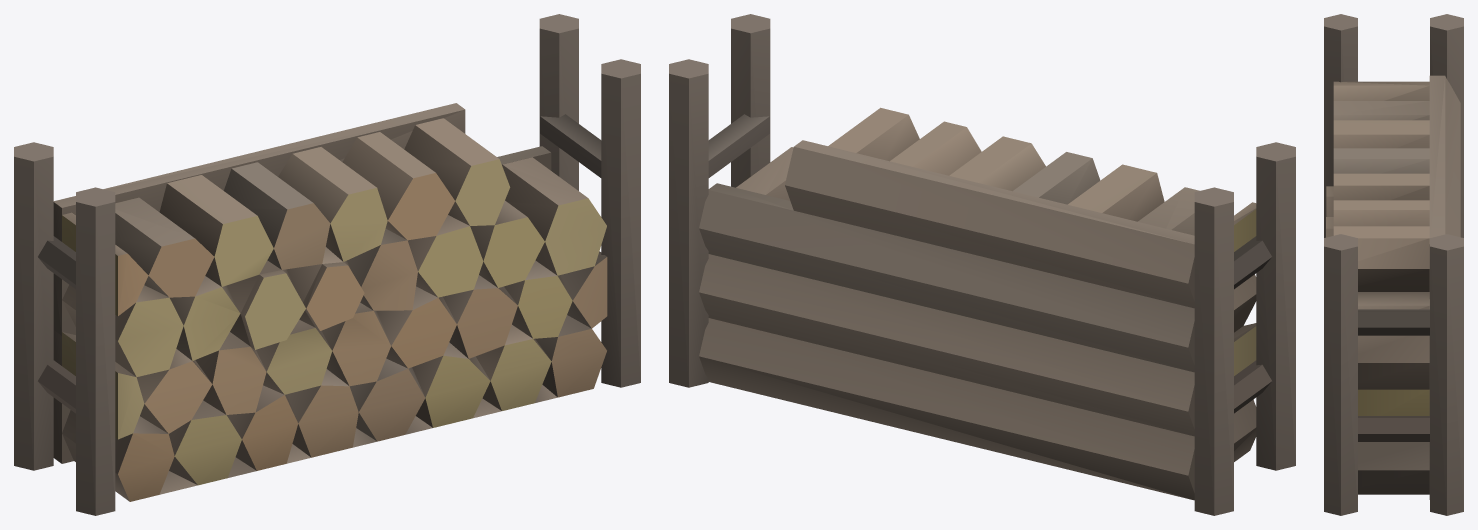
The model's file is cordwood.glb.
The picture shows the model from 3 angles, left to right: view 1: azimuth 30°, elevation 25°; view 2: azimuth 150°, elevation 25°; view 3: azimuth 270°, elevation 25°; orthographic projection. The views are drawn at different scales.
Visible parts, largest first — view 1: cordwood; view 2: cordwood; view 3: cordwood.
Boxes of the visible parts, left/top/right/bottom form: cordwood: left=14, top=14, right=640, bottom=515; cordwood: left=669, top=14, right=1295, bottom=515; cordwood: left=1324, top=14, right=1463, bottom=515.
Bounding box in the file's own units: 2.6 × 1.36 × 0.65.
